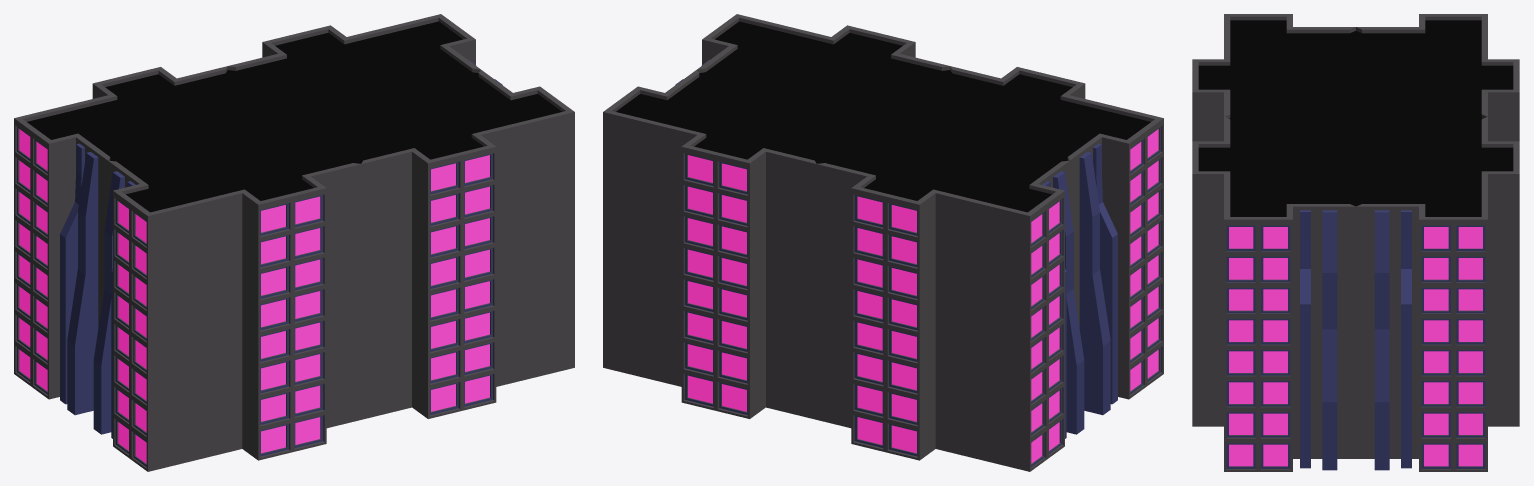
Rendered from 67COMBUSTIONATIONB( (2).fbx.
3 views of the same model, side by side, from view 1: azimuth 30°, elevation 25°; view 2: azimuth 150°, elevation 25°; view 3: azimuth 270°, elevation 25° (orthographic).
Parts seen in each view (by area): view 1: building 2; view 2: building 2; view 3: building 2.
Boxes of the visible parts, box(x1,y1,x2,y2) form: building 2: box(14, 14, 574, 471); building 2: box(603, 14, 1163, 471); building 2: box(1192, 14, 1519, 471).
Size of the model in its own units: 1042 by 596 by 701.
